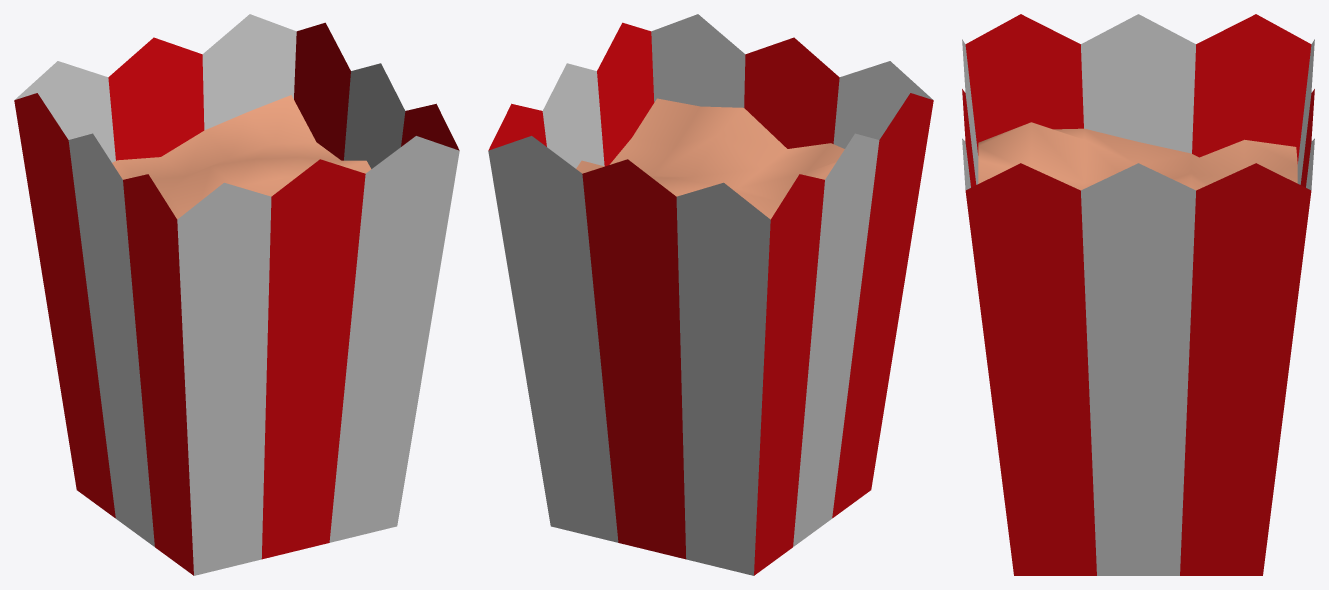
File: popcorn.fbx
3 views of the same model, side by side, from view 1: azimuth 30°, elevation 25°; view 2: azimuth 150°, elevation 25°; view 3: azimuth 270°, elevation 25° (orthographic). The views are drawn at different scales.
Parts seen in each view (by area): view 1: Plane; view 2: Plane; view 3: Plane.
Boxes of the visible parts, box(x1,y1,x2,y2) form: Plane: box(14, 14, 459, 575); Plane: box(488, 14, 933, 575); Plane: box(962, 14, 1314, 575).
Bounding box in the file's own units: 22.42 × 30.48 × 22.42.
